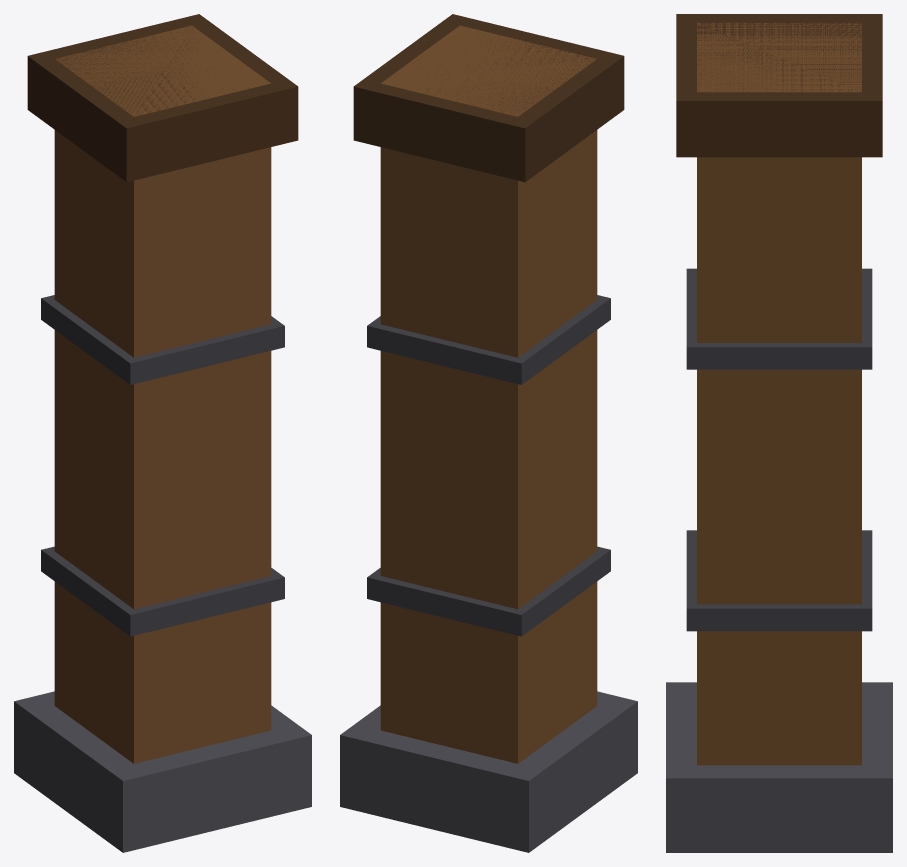
File: pillar.glb
3 views of the same model, side by side, from view 1: azimuth 30°, elevation 25°; view 2: azimuth 150°, elevation 25°; view 3: azimuth 270°, elevation 25° (orthographic). The views are drawn at different scales.
Parts seen in each view (by area): view 1: pillar; view 2: pillar; view 3: pillar.
Boxes of the visible parts, <box> form: pillar: <box>14,14,311,852</box>; pillar: <box>340,14,637,852</box>; pillar: <box>666,14,892,852</box>.
Size of the model in its own units: 1.1 by 4 by 1.1.
Materials: 1 (1 with a texture image).
